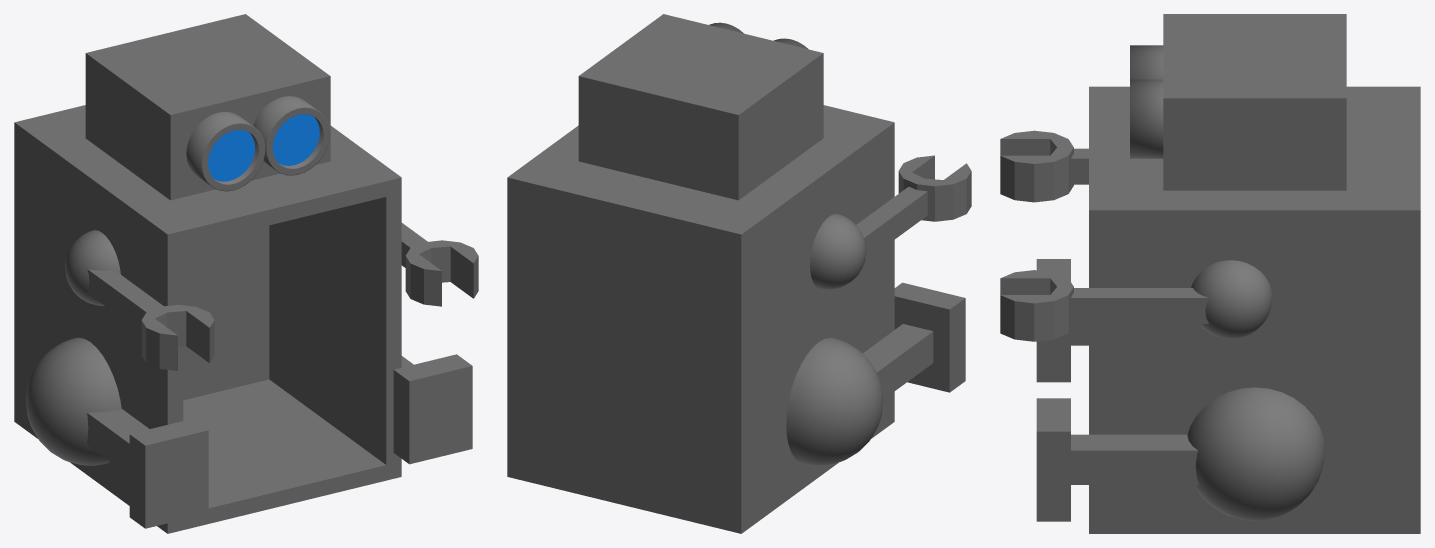
Rendered from BabyBot.fbx.
The picture shows the model from 3 angles, left to right: view 1: azimuth 30°, elevation 25°; view 2: azimuth 150°, elevation 25°; view 3: azimuth 270°, elevation 25°; orthographic projection. The views are drawn at different scales.
Visible parts, largest first — view 1: Body, Legs, Hips, Goggles, Glass, Shoulders; view 2: Body, Hips, Legs, Shoulders; view 3: Body, Hips, Legs, Shoulders, Goggles.
Boxes of the visible parts, x1,y1,x2,y2 form: Body: (14, 14, 478, 533); Legs: (86, 354, 472, 528); Hips: (26, 337, 121, 465); Goggles: (186, 96, 329, 191); Glass: (208, 114, 319, 181); Shoulders: (65, 230, 120, 305); Body: (507, 14, 971, 533); Hips: (786, 337, 883, 465); Legs: (862, 282, 965, 399); Shoulders: (810, 214, 866, 289); Body: (1000, 14, 1420, 533); Hips: (1187, 387, 1324, 520); Legs: (1036, 259, 1199, 521); Shoulders: (1191, 260, 1272, 338); Goggles: (1130, 45, 1163, 158).
Size of the model in its own units: 297 by 288 by 314.
